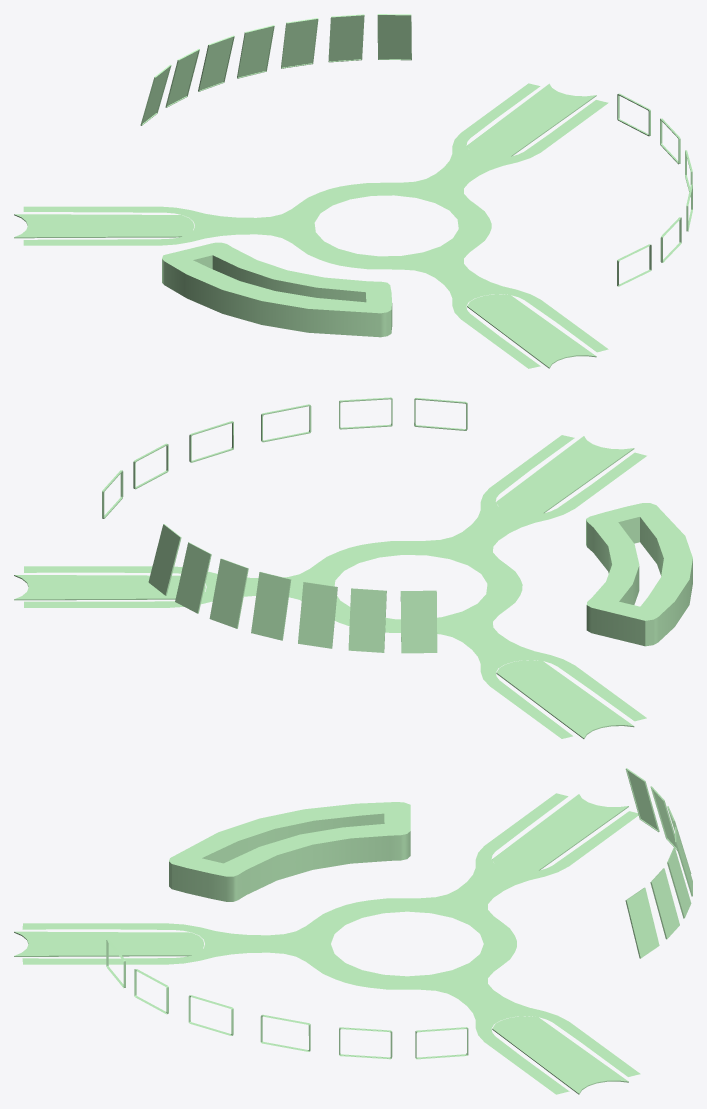
File: grigio_chiaro_p1.glb
3 renders of one model, top to bottom at view 1: azimuth 30°, elevation 25°; view 2: azimuth 150°, elevation 25°; view 3: azimuth 270°, elevation 25°, orthographic. The views are drawn at different scales.
Visible parts, largest first — view 1: grigio_chiaro_P1_g; view 2: grigio_chiaro_P1_g; view 3: grigio_chiaro_P1_g.
Boxes of the visible parts, x1,y1,x2,y2 form: grigio_chiaro_P1_g: (14, 14, 692, 368); grigio_chiaro_P1_g: (14, 397, 692, 738); grigio_chiaro_P1_g: (14, 768, 692, 1094).
Bounding box in the file's own units: 23.64 × 4.05 × 22.5.
